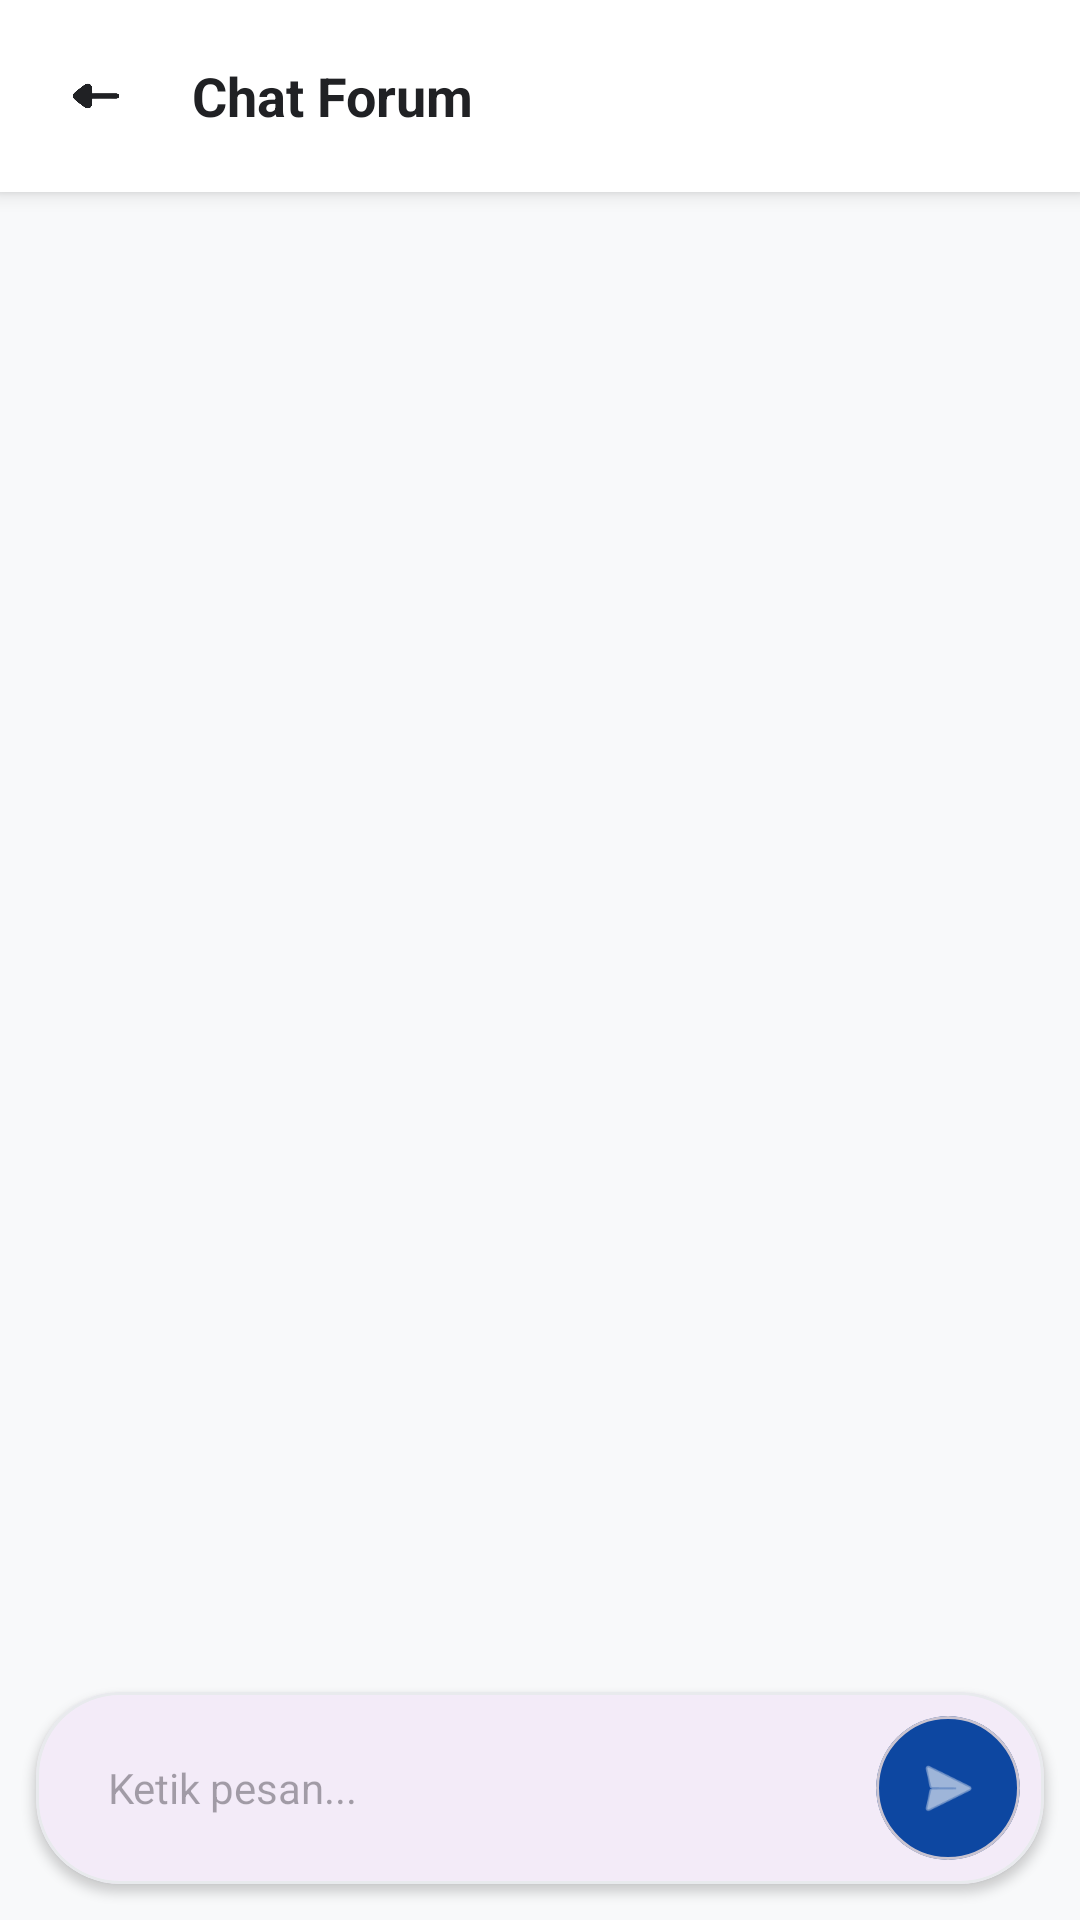

Icons on this 1080 x 1920 Android screen, each with its box as {"left": x1, "top": y1, "right": x2, "bottom": y2}:
arrow back: {"left": 73, "top": 84, "right": 119, "bottom": 108}
Kirim Pesan: {"left": 876, "top": 1716, "right": 1020, "bottom": 1860}
